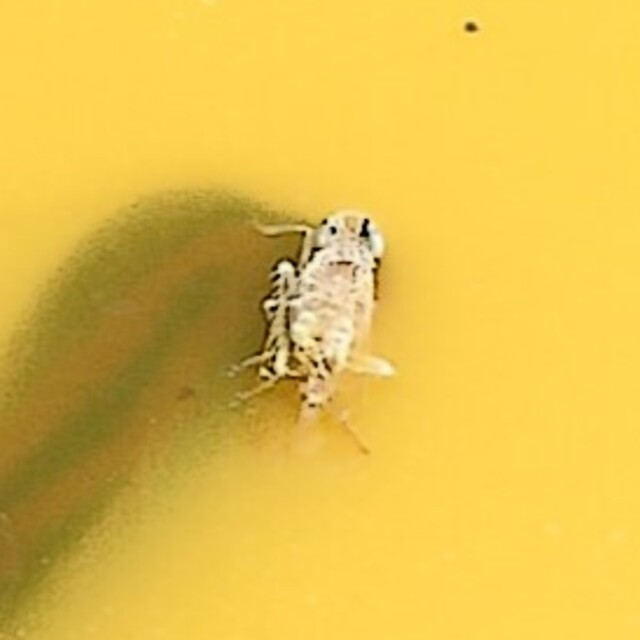Hemiptera: (234, 204, 406, 436)
